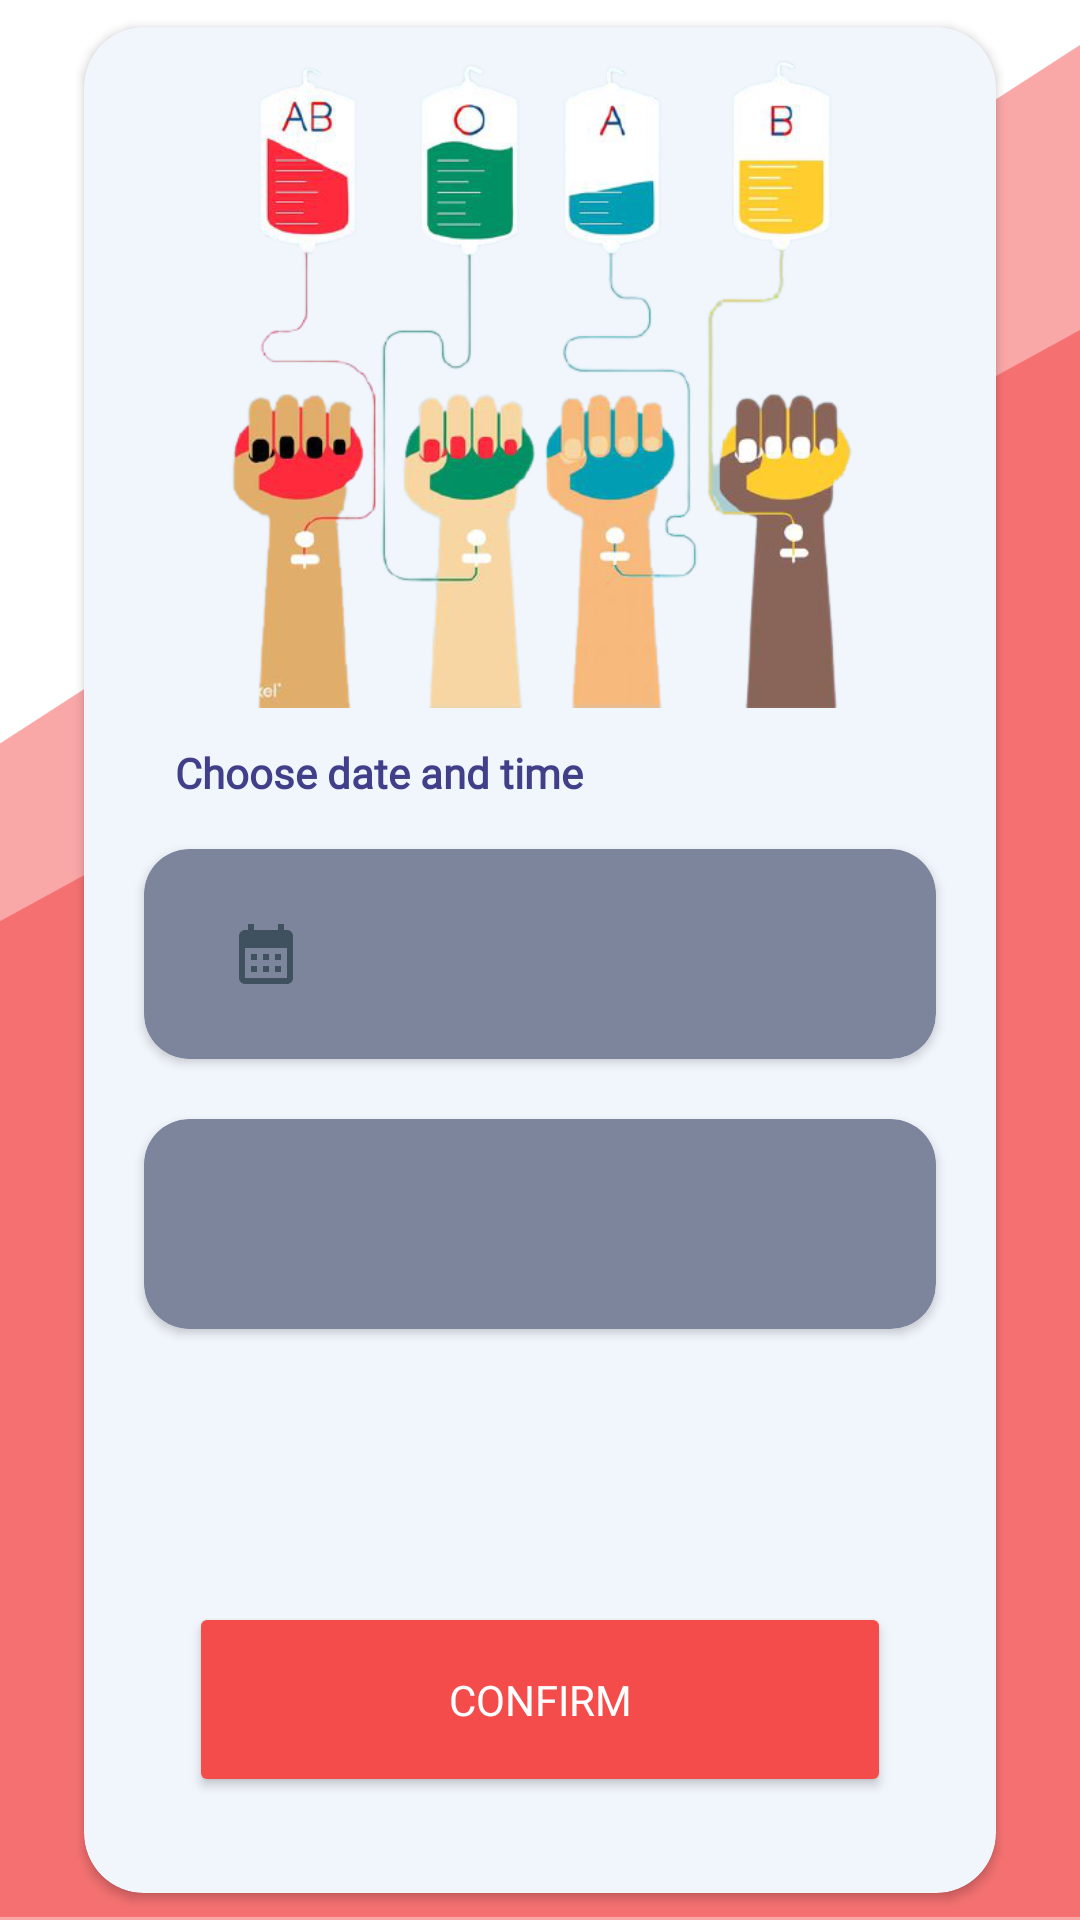

Point at icon controls on the screen. Image size 1080 x 1920, points as [x,y].
calendar month: [265,954]
